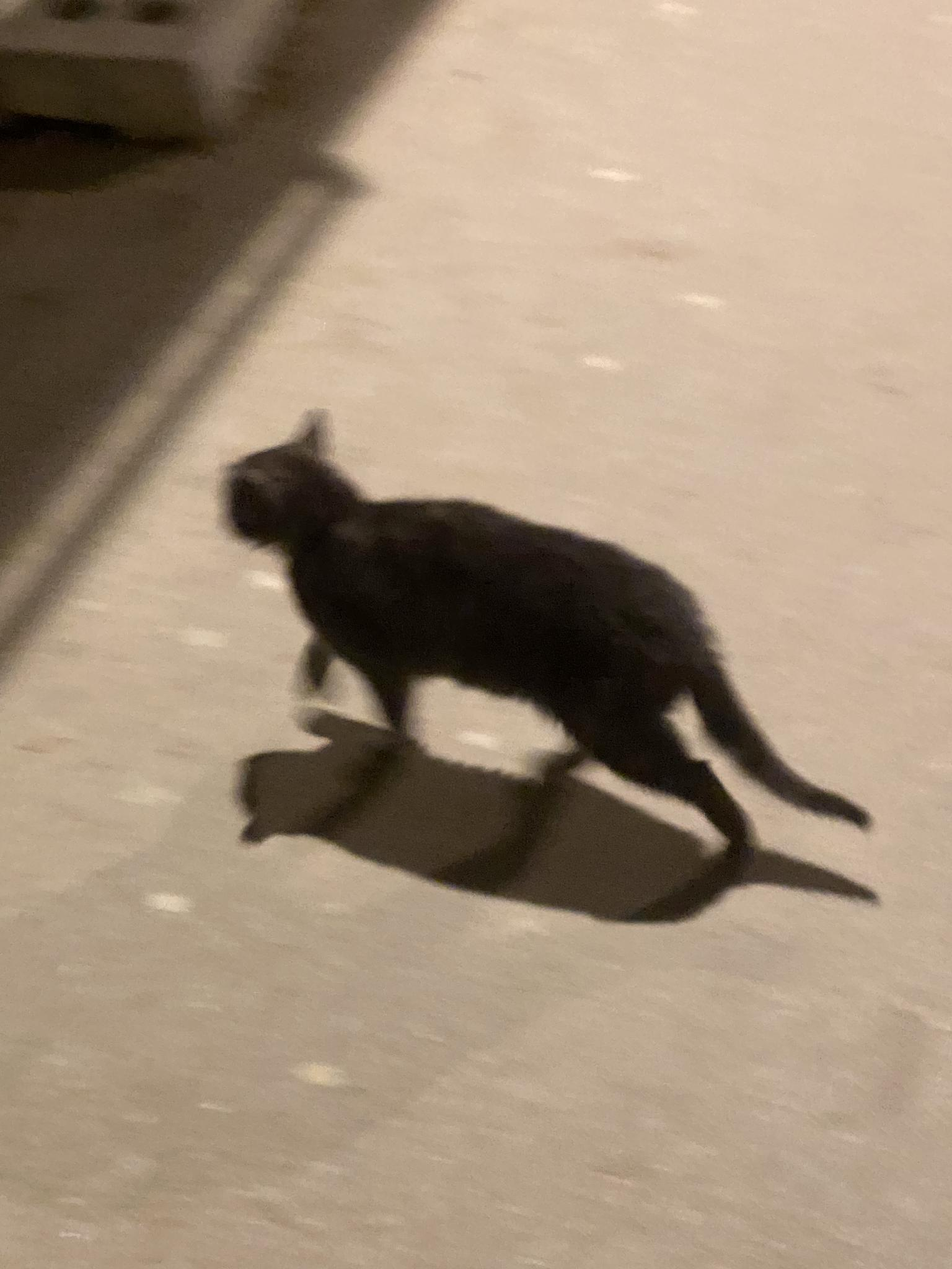macka: (222, 411, 875, 894)
